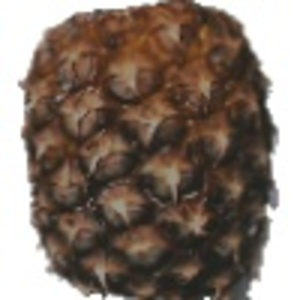abacaxi: (9, 2, 281, 296)
